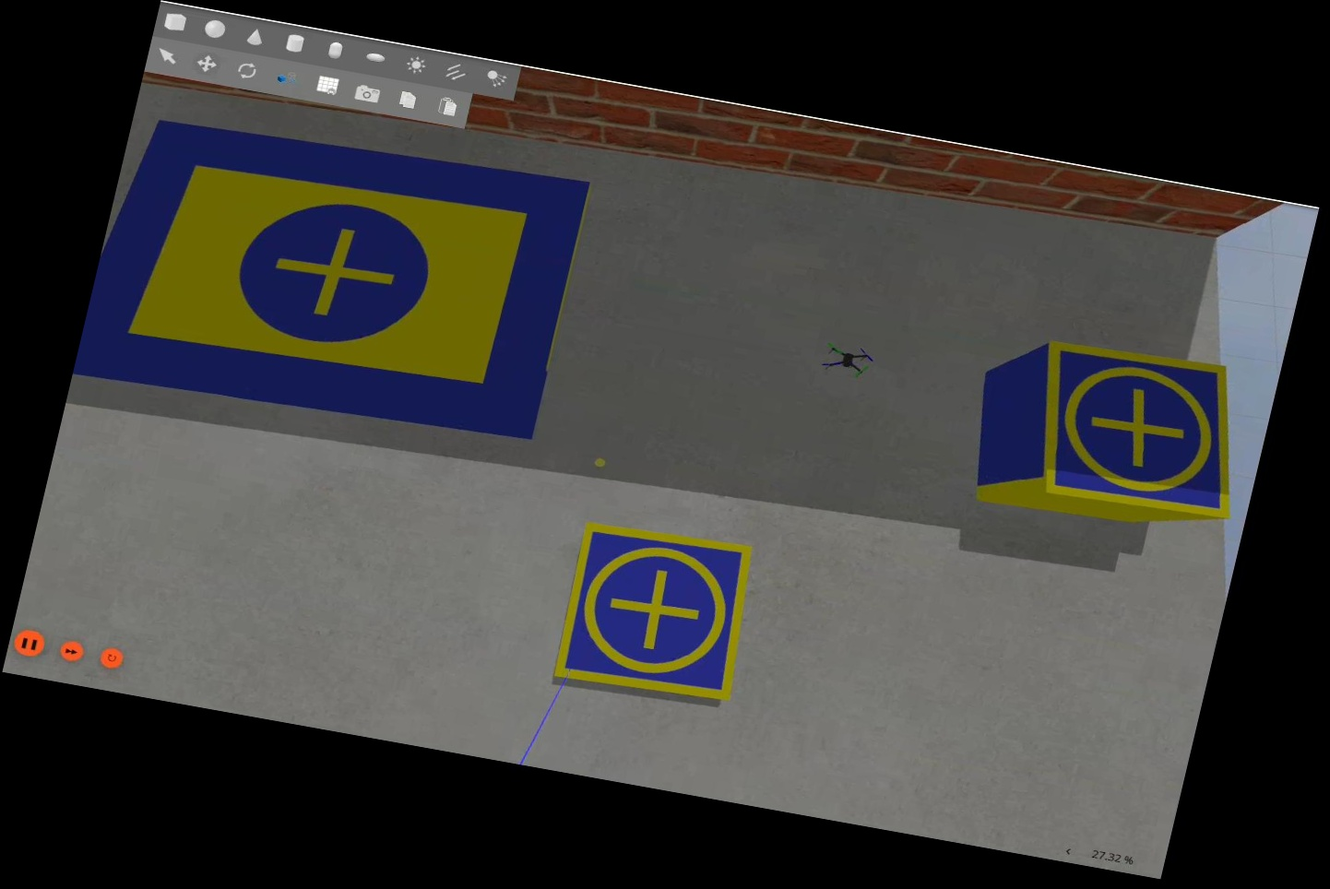large_base: (75, 99, 597, 445)
small_base: (1013, 336, 1264, 527), (551, 516, 764, 708)
